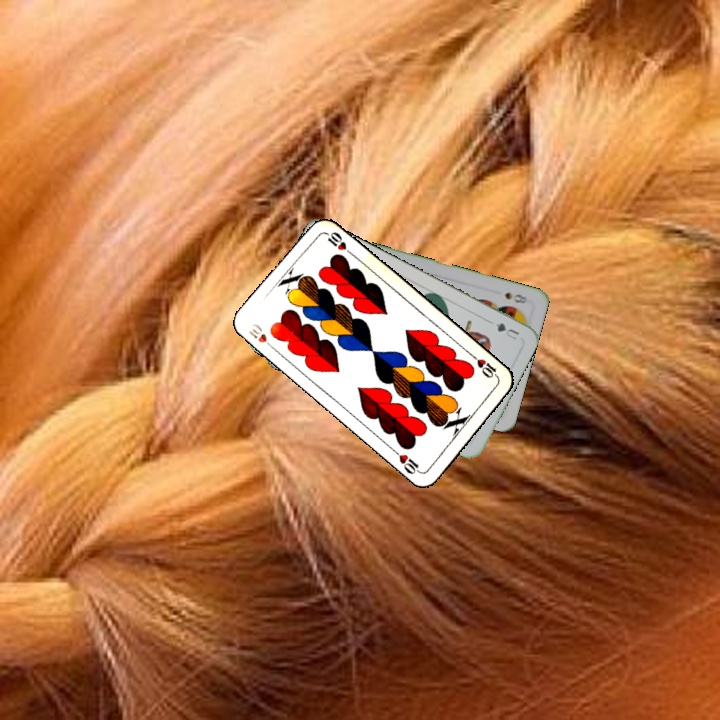GU: (491, 319, 522, 343)
H10: (245, 319, 278, 353), (468, 351, 502, 381)
S8: (501, 288, 531, 306)
